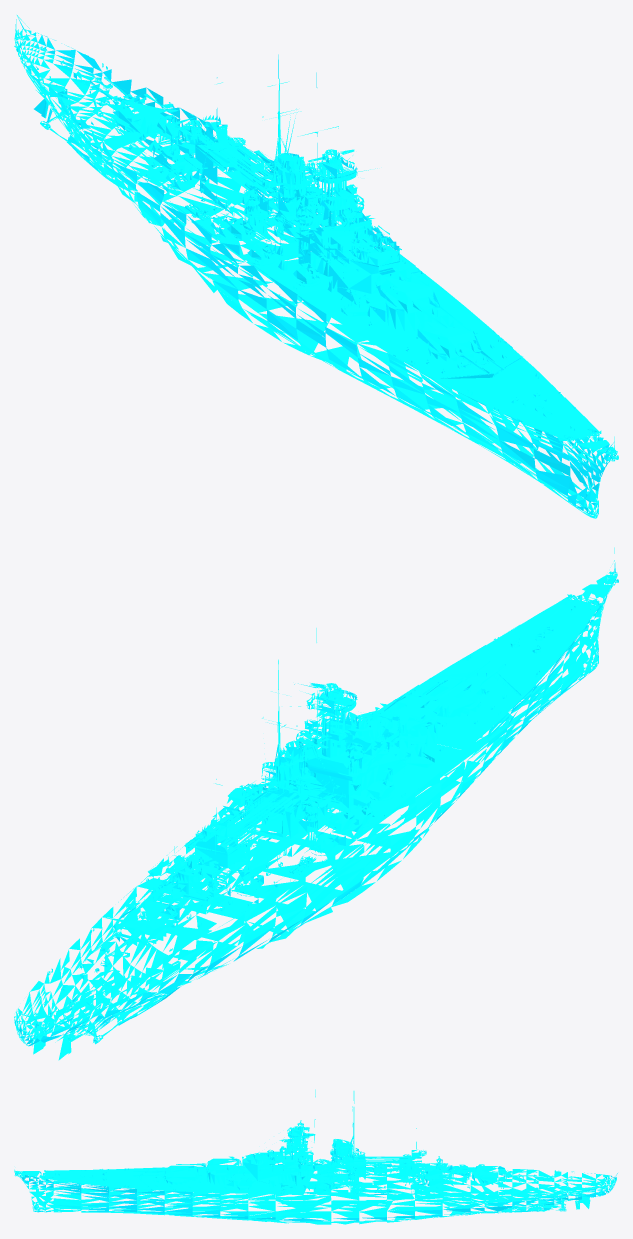
Rendered from PGSB107.glb.
3 renders of one model, top to bottom at view 1: azimuth 30°, elevation 25°; view 2: azimuth 150°, elevation 25°; view 3: azimuth 270°, elevation 25°, orthographic. The views are drawn at different scales.
Parts seen in each view (by area): view 1: hull_bow; view 2: hull_bow; view 3: hull_bow.
Part boxes in pixels (x1,y1,x2,y2): hull_bow: [14, 15, 618, 518]; hull_bow: [14, 547, 618, 1060]; hull_bow: [14, 1089, 617, 1224].
Size of the model in its own units: 2 by 3.65 by 16.38.
